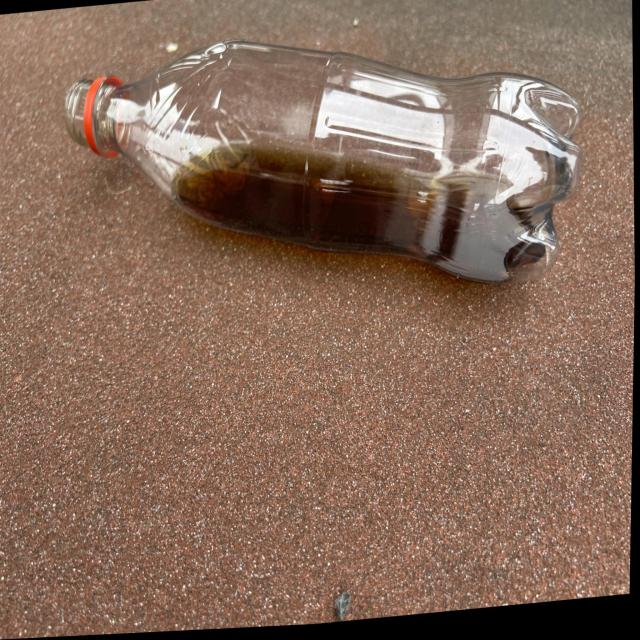low: (65, 40, 582, 282)
